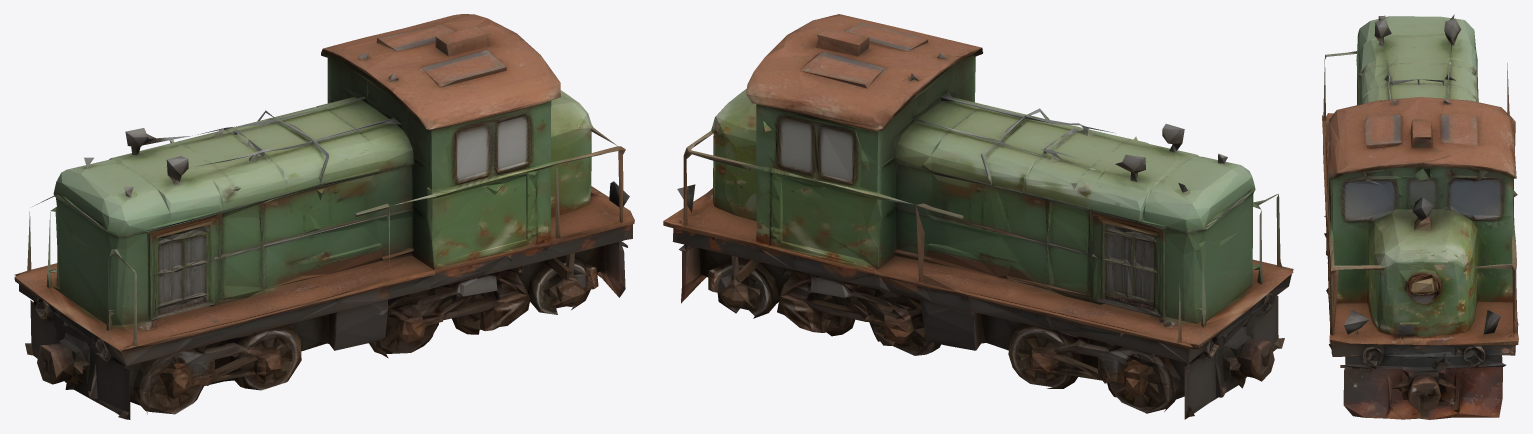
The model's file is diesel_shunter.glb.
3 views of the same model, side by side, from view 1: azimuth 30°, elevation 25°; view 2: azimuth 150°, elevation 25°; view 3: azimuth 270°, elevation 25° (orthographic). The views are drawn at different scales.
Visible parts, largest first — view 1: diesel_shunter; view 2: diesel_shunter; view 3: diesel_shunter.
Part boxes in pixels (x1,y1,x2,y2): diesel_shunter: [14, 14, 634, 419]; diesel_shunter: [663, 14, 1293, 419]; diesel_shunter: [1322, 14, 1518, 419].
Bounding box in the file's own units: 9.51 × 4.34 × 3.16.
Materials: 1 (1 with a texture image).
